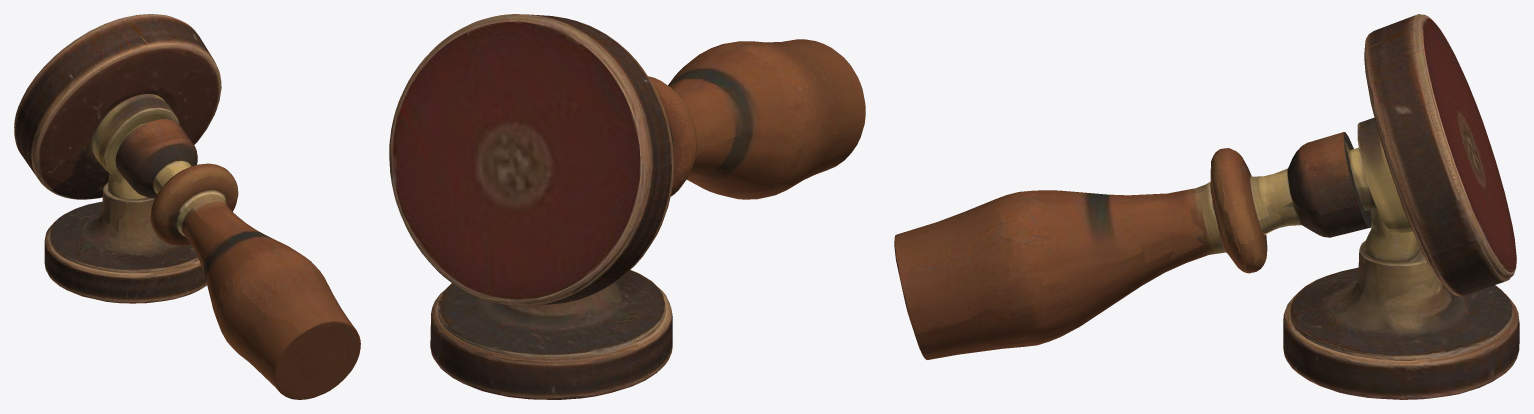
File: stamp.glb
3 renders of one model, left to right at view 1: azimuth 30°, elevation 25°; view 2: azimuth 150°, elevation 25°; view 3: azimuth 270°, elevation 25°, orthographic. The views are drawn at different scales.
Bounding box in the file's own units: 0.8684 × 1.09 × 1.9.
1 material, 1 textured.
